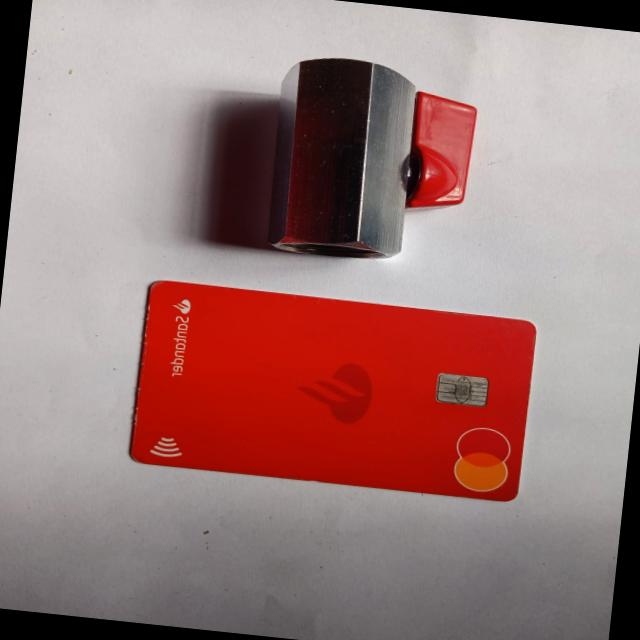cartao: (128, 278, 536, 503)
rosca_interna: (260, 52, 481, 272)
